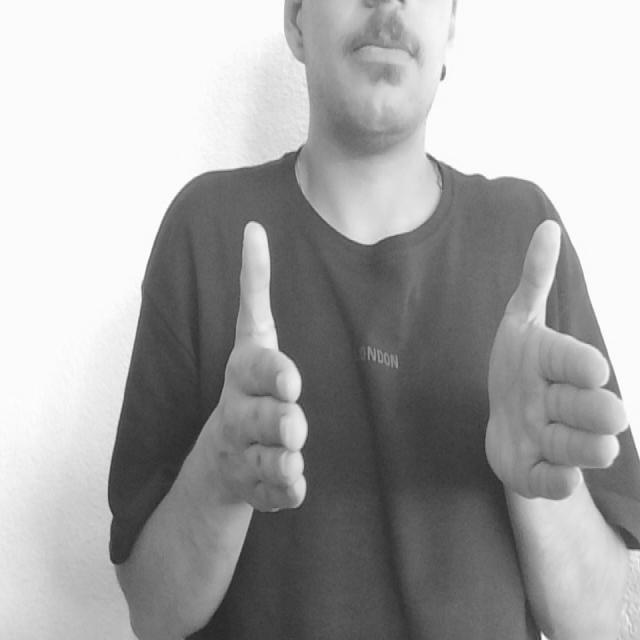Nasil: (209, 190, 635, 556)
